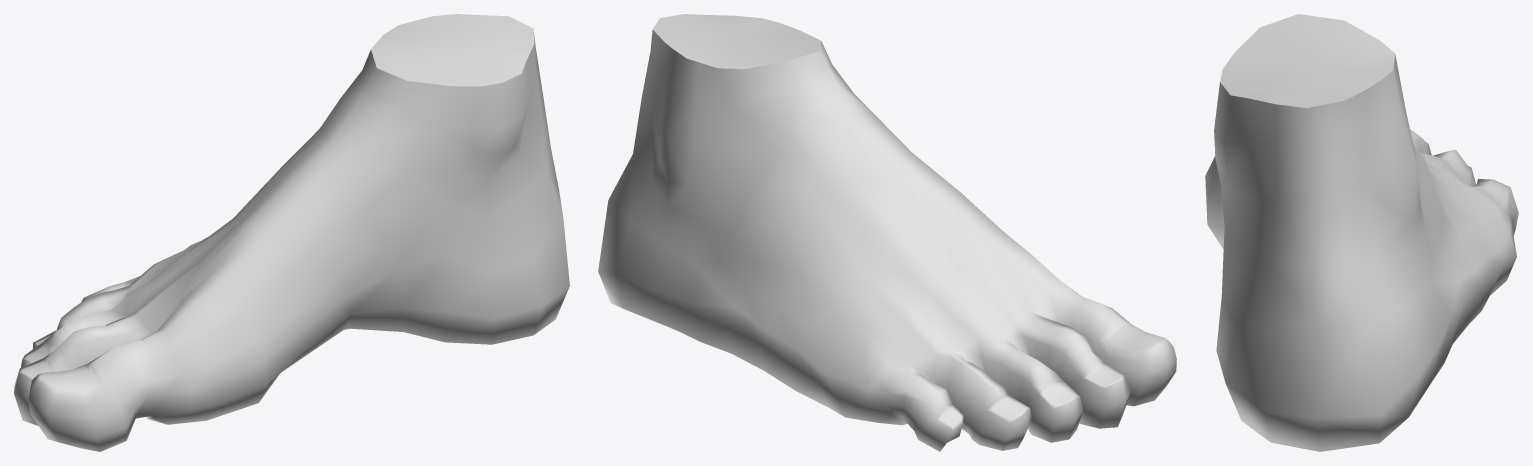
File: rightjyz.dae
The picture shows the model from 3 angles, left to right: view 1: azimuth 30°, elevation 25°; view 2: azimuth 150°, elevation 25°; view 3: azimuth 270°, elevation 25°; orthographic projection. The views are drawn at different scales.
Parts seen in each view (by area): view 1: pPlane6; view 2: pPlane6; view 3: pPlane6.
Boxes of the visible parts, box(x1,y1,x2,y2) form: pPlane6: box(14, 14, 569, 451); pPlane6: box(598, 14, 1176, 451); pPlane6: box(1205, 14, 1518, 451).
Bounding box in the file's own units: 9.12 × 4.74 × 3.83.
1 material, 1 textured.
